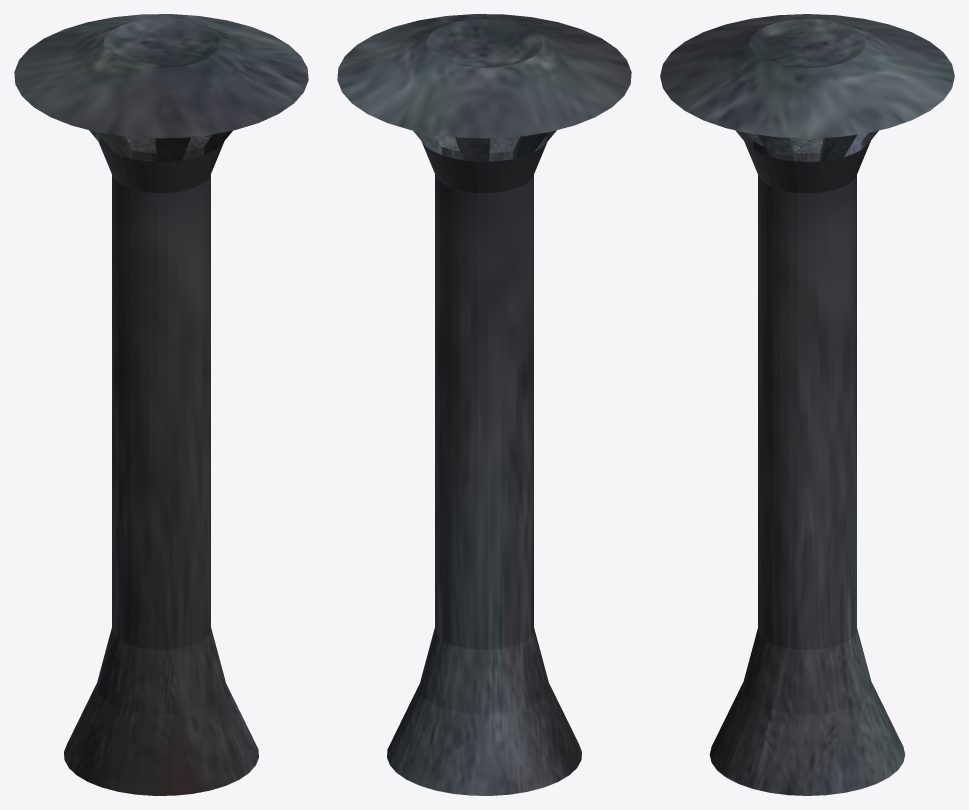
The model's file is Lantern.fbx.
The picture shows the model from 3 angles, left to right: view 1: azimuth 30°, elevation 25°; view 2: azimuth 150°, elevation 25°; view 3: azimuth 270°, elevation 25°; orthographic projection.
Parts seen in each view (by area): view 1: Lantern; view 2: Lantern; view 3: Lantern.
Part boxes in pixels (box(x1,y1,x2,y2)): Lantern: box(14, 14, 308, 795); Lantern: box(337, 14, 631, 795); Lantern: box(660, 14, 954, 795).
Size of the model in its own units: 452 by 1204 by 452.
